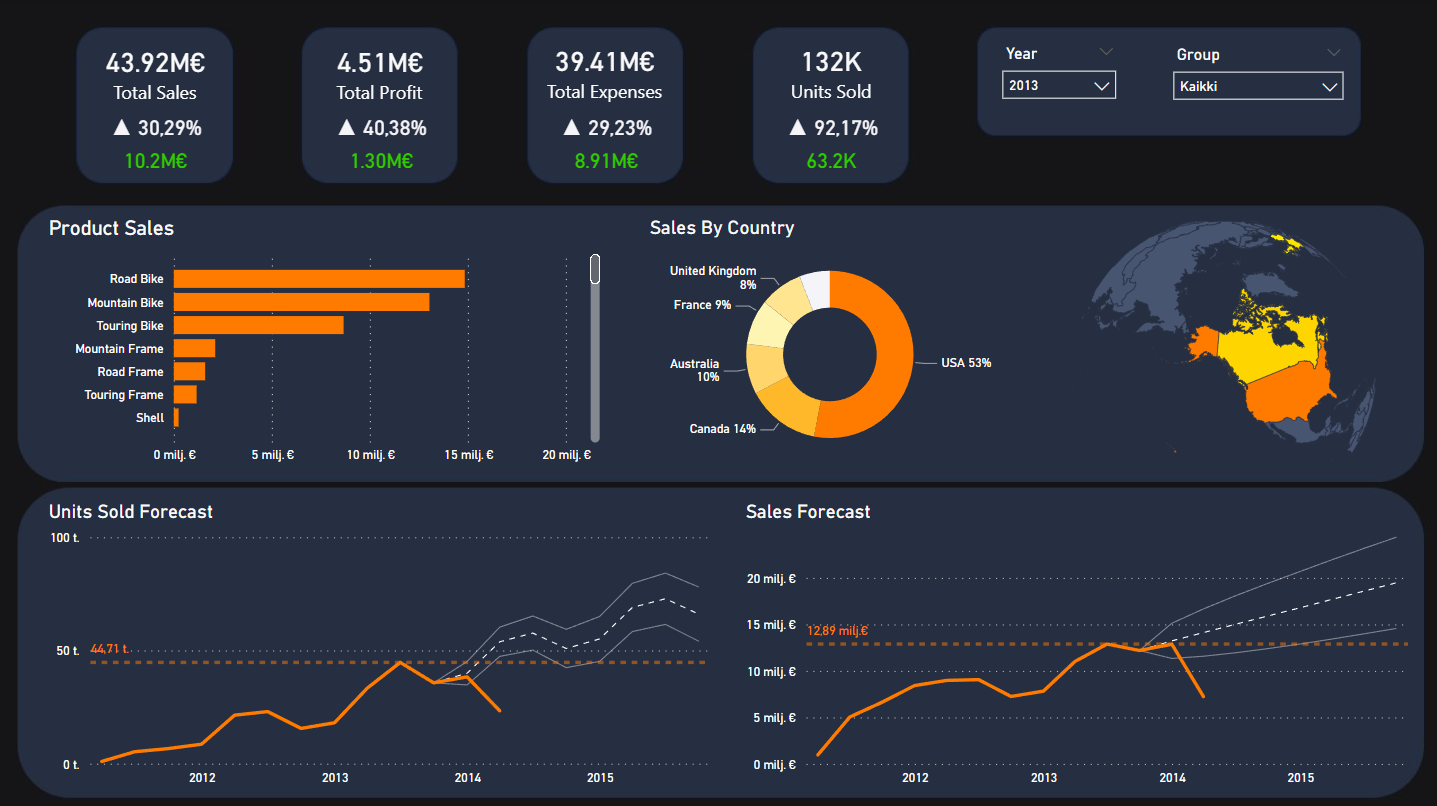

This screenshot's page, from the dashboard's own definition file:
{"tool":"powerbi","page":{"name":"Sivu 1","canvas":[1280,720],"ordinal":0},"visuals":[{"type":"clusteredBarChart","title":"Product Sales","fields":{"Category":["Production Product.ProductCategory","Production Product.Name"],"Y":["Sales SalesOrderDetail.Total Sales"]},"box":[41,192.8,498.6,225.8],"z":0},{"type":"slicer","fields":{"Values":["Sales SalesTerritory.Group"]},"box":[1033,36.1,171.4,58.6],"z":1000},{"type":"shapeMap","fields":{"Category":["Sales SalesTerritory.CountryNames"],"Value":["Sales SalesOrderDetail.Total Sales"]},"box":[889.3,192.8,368.7,225.8],"z":2000},{"type":"slicer","fields":{"Values":["Sales SalesOrderDetail.ModifiedDate.Vaihtelu.Päivämäärähierarkia.Vuosi"]},"box":[881.2,35.6,120.9,70.9],"z":3000},{"type":"advanceCardE03760C5AB684758B56AA29F9E6C257B","fields":{"mainMeasure":["Production ProductCostHistory.Total Expenses"]},"box":[469.3,28.6,139.7,70.3],"z":5000},{"type":"donutChart","title":"Sales By Country","fields":{"Category":["Sales SalesTerritory.CountryNames"],"Y":["Sales SalesOrderDetail.Total Sales"]},"box":[573.4,192.6,329.6,226.4],"z":6000},{"type":"advanceCardE03760C5AB684758B56AA29F9E6C257B","fields":{"mainMeasure":["Sales SalesOrderDetail.Total Profit"]},"box":[269.8,29.5,139.7,70.3],"z":7000},{"type":"advanceCardE03760C5AB684758B56AA29F9E6C257B","fields":{"mainMeasure":["Sales SalesOrderDetail.Units Sold"]},"box":[669.7,28.6,140.5,70.3],"z":8000},{"type":"advanceCardE03760C5AB684758B56AA29F9E6C257B","fields":{"mainMeasure":["Sales SalesOrderDetail.Percentage Difference"]},"box":[70.6,99.4,140,30.7],"z":9000},{"type":"advanceCardE03760C5AB684758B56AA29F9E6C257B","fields":{"mainMeasure":["Sales SalesOrderDetail.Total Profit Percentage Difference"]},"box":[270.3,99.4,140,30],"z":10000},{"type":"advanceCardE03760C5AB684758B56AA29F9E6C257B","fields":{"mainMeasure":["Production ProductCostHistory.Total Expenses Percentage Difference"]},"box":[470.1,99.4,140.1,30.7],"z":11000},{"type":"advanceCardE03760C5AB684758B56AA29F9E6C257B","fields":{"mainMeasure":["Sales SalesOrderDetail.Units Sold Percentage Difference"]},"box":[670,99.4,140.1,29.8],"z":12000},{"type":"advanceCardE03760C5AB684758B56AA29F9E6C257B","fields":{"mainMeasure":["Sales SalesOrderDetail.Total Sales"]},"box":[70.3,29.5,140.5,70.3],"z":13000},{"type":"advanceCardE03760C5AB684758B56AA29F9E6C257B","fields":{"mainMeasure":["Sales SalesOrderDetail.Sales Difference"]},"box":[90.6,128.6,100,30],"z":14000},{"type":"advanceCardE03760C5AB684758B56AA29F9E6C257B","fields":{"mainMeasure":["Sales SalesOrderDetail.Units Sold Difference"]},"box":[690.2,128.6,99.9,29.8],"z":15000},{"type":"advanceCardE03760C5AB684758B56AA29F9E6C257B","fields":{"mainMeasure":["Sales SalesOrderDetail.Expense Difference"]},"box":[490.3,128.6,99.9,30],"z":16000},{"type":"advanceCardE03760C5AB684758B56AA29F9E6C257B","fields":{"mainMeasure":["Sales SalesOrderDetail.Profit Difference"]},"box":[290.5,128.6,99.9,30.7],"z":17000},{"type":"lineChart","title":"Units Sold Forecast","fields":{"Category":["Sales SalesOrderDetail.ModifiedDate.Vaihtelu.Päivämäärähierarkia.Vuosi","Sales SalesOrderDetail.ModifiedDate.Vaihtelu.Päivämäärähierarkia.Vuosineljännes"],"Y":["Sales SalesOrderDetail.Units Sold"]},"box":[41,444.7,599.5,259.8],"z":18000},{"type":"lineChart","title":"Sales Forecast","fields":{"Category":["Sales SalesOrderDetail.ModifiedDate.Vaihtelu.Päivämäärähierarkia.Vuosi","Sales SalesOrderDetail.ModifiedDate.Vaihtelu.Päivämäärähierarkia.Vuosineljännes"],"Y":["Sales SalesOrderDetail.Total Sales"]},"box":[658.5,444.7,600,260],"z":19000}]}

Visuals, with their boxes in screenshot pixels (x1, y1, x2, y2), scaled from the page's 1280x720 canvas onto the 1437x806 screenshot:
"Product Sales" clusteredBarChart: detection(46, 216, 606, 469)
slicer - Sales SalesTerritory.Group: detection(1160, 40, 1352, 106)
shapeMap - Sales SalesTerritory.CountryNames x Sales SalesOrderDetail.Total Sales: detection(998, 216, 1412, 469)
slicer - Sales SalesOrderDetail.ModifiedDate.Vaihtelu.Päivämäärähierarkia.Vuosi: detection(989, 40, 1125, 119)
advanceCardE03760C5AB684758B56AA29F9E6C257B - Production ProductCostHistory.Total Expenses: detection(527, 32, 684, 111)
"Sales By Country" donutChart: detection(644, 216, 1014, 469)
advanceCardE03760C5AB684758B56AA29F9E6C257B - Sales SalesOrderDetail.Total Profit: detection(303, 33, 460, 112)
advanceCardE03760C5AB684758B56AA29F9E6C257B - Sales SalesOrderDetail.Units Sold: detection(752, 32, 910, 111)
advanceCardE03760C5AB684758B56AA29F9E6C257B - Sales SalesOrderDetail.Percentage Difference: detection(79, 111, 236, 146)
advanceCardE03760C5AB684758B56AA29F9E6C257B - Sales SalesOrderDetail.Total Profit Percentage Difference: detection(303, 111, 461, 145)
advanceCardE03760C5AB684758B56AA29F9E6C257B - Production ProductCostHistory.Total Expenses Percentage Difference: detection(528, 111, 685, 146)
advanceCardE03760C5AB684758B56AA29F9E6C257B - Sales SalesOrderDetail.Units Sold Percentage Difference: detection(752, 111, 909, 145)
advanceCardE03760C5AB684758B56AA29F9E6C257B - Sales SalesOrderDetail.Total Sales: detection(79, 33, 237, 112)
advanceCardE03760C5AB684758B56AA29F9E6C257B - Sales SalesOrderDetail.Sales Difference: detection(102, 144, 214, 178)
advanceCardE03760C5AB684758B56AA29F9E6C257B - Sales SalesOrderDetail.Units Sold Difference: detection(775, 144, 887, 177)
advanceCardE03760C5AB684758B56AA29F9E6C257B - Sales SalesOrderDetail.Expense Difference: detection(550, 144, 663, 178)
advanceCardE03760C5AB684758B56AA29F9E6C257B - Sales SalesOrderDetail.Profit Difference: detection(326, 144, 438, 178)
"Units Sold Forecast" lineChart: detection(46, 498, 719, 789)
"Sales Forecast" lineChart: detection(739, 498, 1413, 789)
